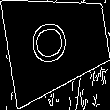O_E: (34, 17, 80, 69)
